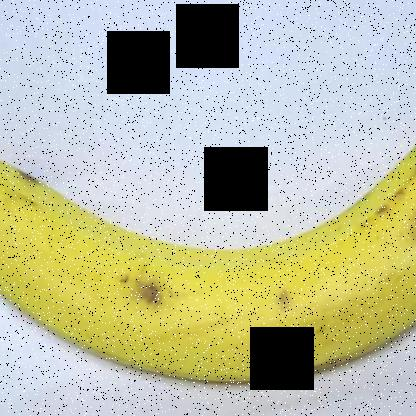freshripe: (0, 121, 415, 401)
